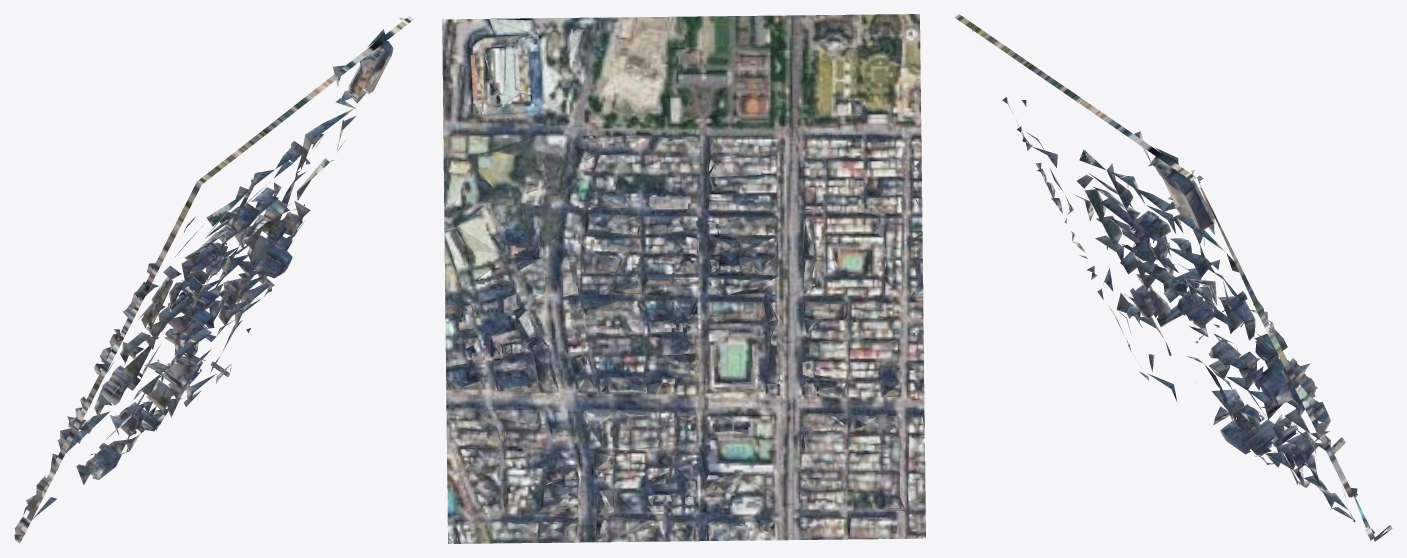
3 views of the same model, side by side, from view 1: azimuth 30°, elevation 25°; view 2: azimuth 150°, elevation 25°; view 3: azimuth 270°, elevation 25° (orthographic). The views are drawn at different scales.
Size of the model in its own units: 1223 by 1116 by 1069.
Materials: 2 (2 with a texture image).
